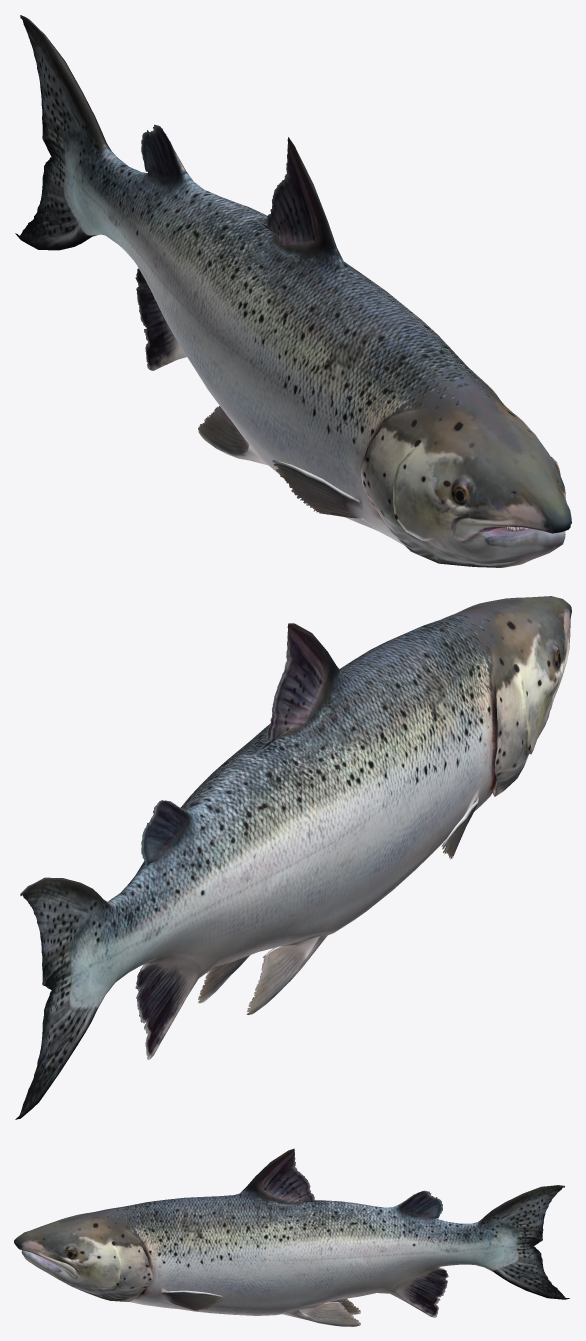
The model's file is fis_salmon.obj.
3 views of the same model, one above another, from view 1: azimuth 30°, elevation 25°; view 2: azimuth 150°, elevation 25°; view 3: azimuth 270°, elevation 25° (orthographic). The views are drawn at different scales.
Visible parts, largest first — view 1: fis_salmon; view 2: fis_salmon; view 3: fis_salmon.
Part boxes in pixels (bbox=[...]): fis_salmon: bbox=[15, 15, 571, 567]; fis_salmon: bbox=[15, 596, 571, 1119]; fis_salmon: bbox=[14, 1148, 569, 1326].
Bounding box in the file's own units: 0.1868 × 0.3579 × 1.05.
Materials: 1 (1 with a texture image).
